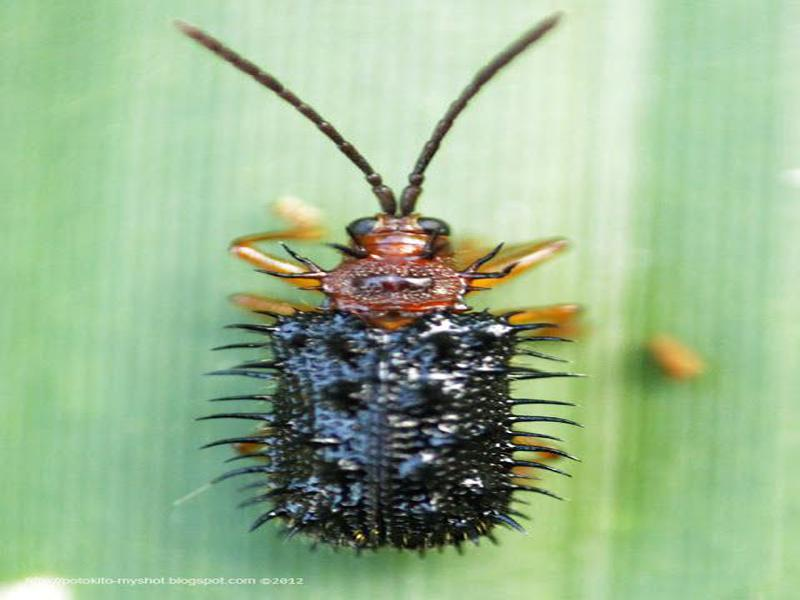Spiny_beetle: (147, 182, 595, 538)
